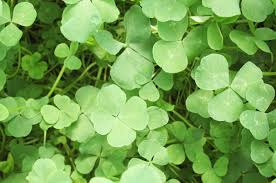4-clover: (95, 87, 149, 148)
